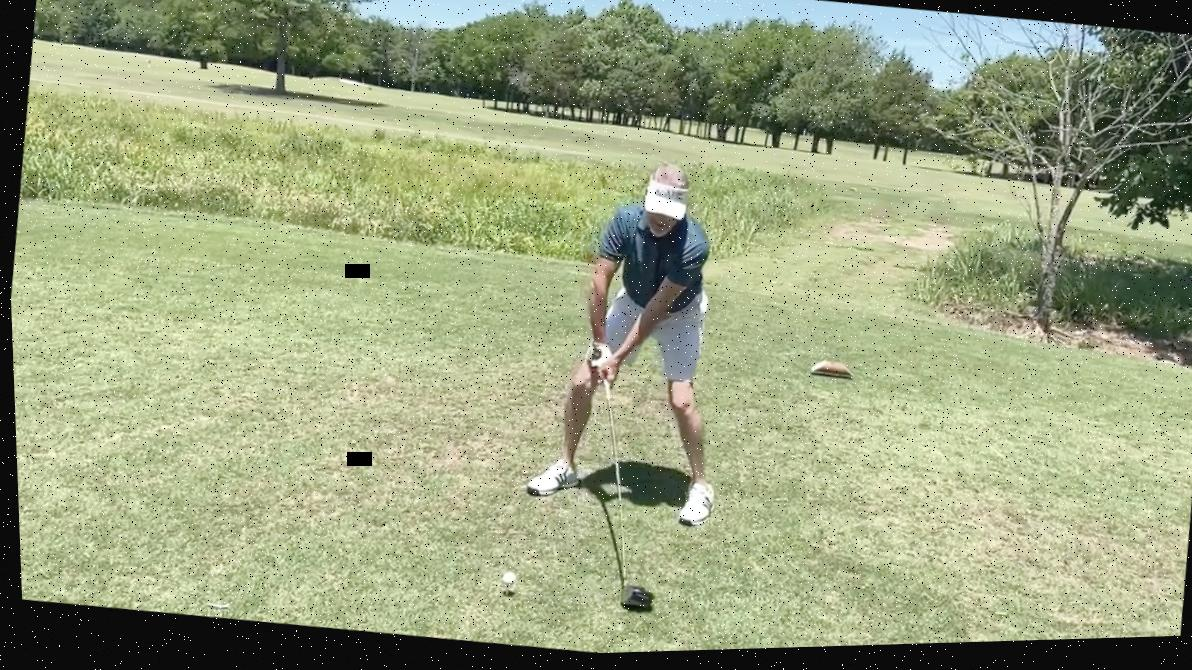ClubHead: (609, 580, 654, 618)
GolfBall: (492, 571, 513, 593)
